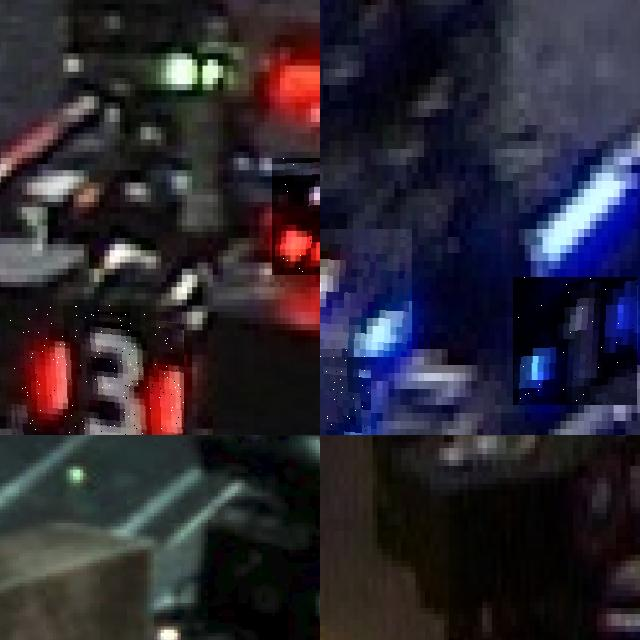B1: (513, 277, 637, 405), (320, 229, 412, 357)
R3: (8, 305, 184, 435), (272, 158, 320, 275)
